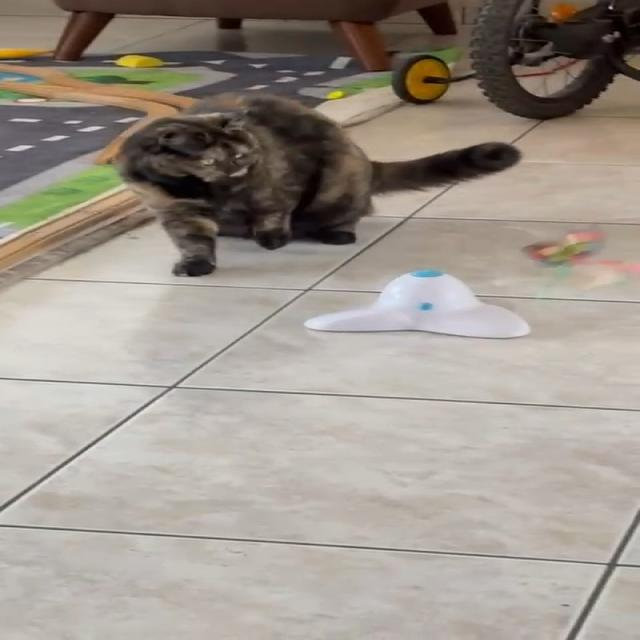authorized: (112, 91, 521, 277)
